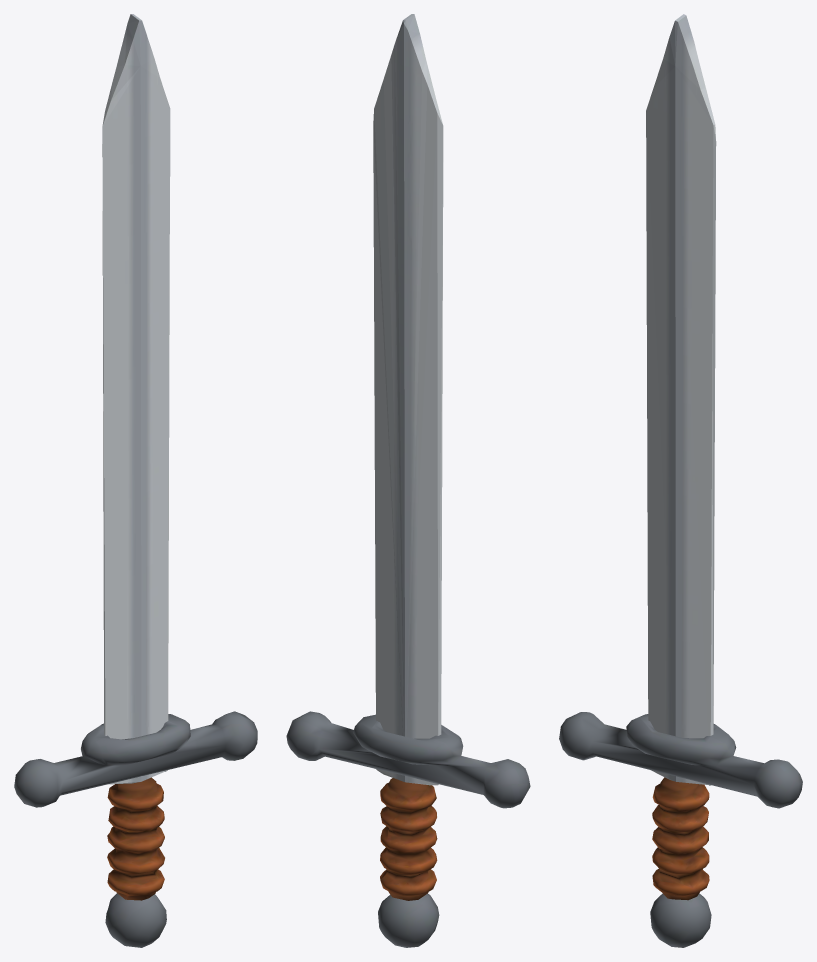
Rendered from long-sword.glb.
3 renders of one model, left to right at view 1: azimuth 30°, elevation 25°; view 2: azimuth 150°, elevation 25°; view 3: azimuth 330°, elevation 25°, orthographic.
Parts seen in each view (by area): view 1: blade; view 2: blade; view 3: blade.
Boxes of the visible parts, x1,y1,x2,y2 form: blade: [14, 14, 257, 947]; blade: [286, 14, 530, 947]; blade: [559, 14, 802, 947].
Bounding box in the file's own units: 0.2629 × 0.9848 × 0.065.
Materials: 1 (1 with a texture image).
